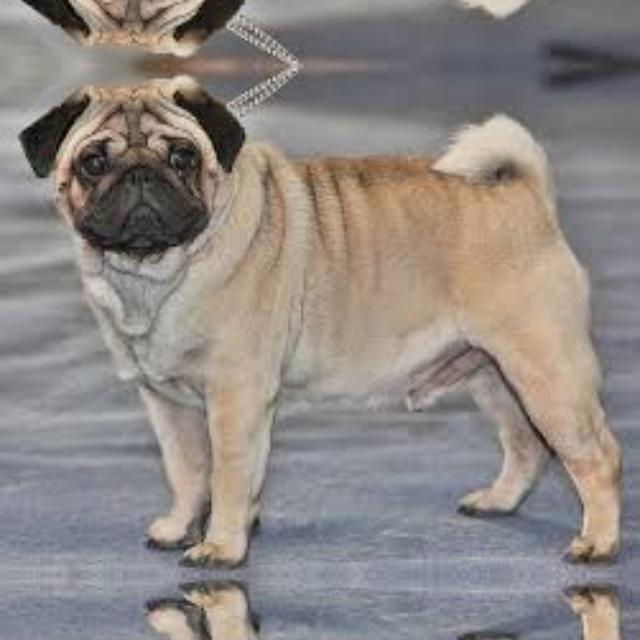dog: (28, 70, 640, 570), (28, 579, 640, 640), (28, 0, 640, 60)
